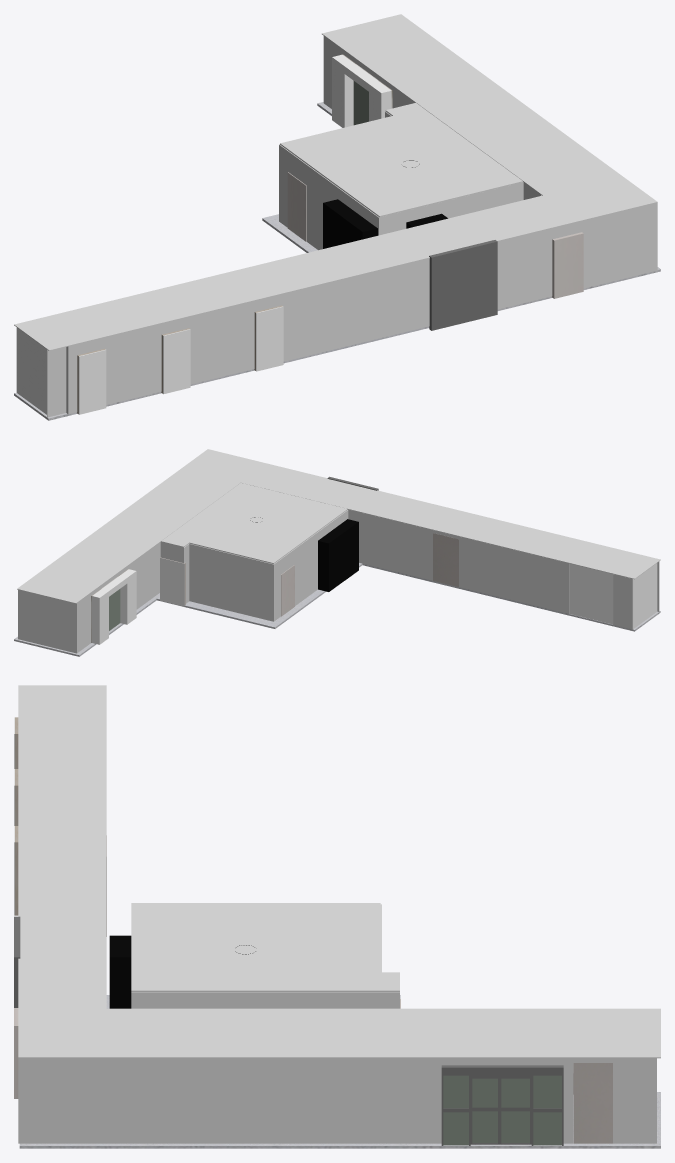
Rendered from surgery_hall_7room_sinkFix.fbx.
3 renders of one model, top to bottom at view 1: azimuth 30°, elevation 25°; view 2: azimuth 150°, elevation 25°; view 3: azimuth 270°, elevation 25°, orthographic. The views are drawn at different scales.
Parts seen in each view (by area): view 1: h_celling, h_wall, s_celling, s_room_7_wall, h_door_c, h_restRoom, h_surgery_door_b, wall_picture_a, h_door_b, h_floor, s_door_a, CNU_medical_cabinet_B (+2 smaller); view 2: h_celling, h_wall, s_celling, s_room_7_wall, wall_picture_b, h_surgery_door_b, CNU_medical_cabinet_B, h_door_a, h_floor, wall_picture_a, s_floor, s_door_b (+3 smaller); view 3: h_celling, h_wall, s_celling, h_OR_I_9_10_gate, s_room_7_wall, h_floor, h_door_a_a, h_OR_I_9_10_gate_r, h_OR_I_9_10_gate_l, CNU_medical_cabinet_A, h_door_c.
Part boxes in pixels (box(x1,y1,x2,y2)): h_celling: box(14, 14, 657, 350); h_wall: box(16, 36, 657, 417); s_celling: box(280, 103, 522, 217); s_room_7_wall: box(279, 111, 523, 250); h_door_c: box(77, 305, 283, 414); h_restRoom: box(429, 240, 497, 330); h_surgery_door_b: box(332, 54, 392, 127); wall_picture_a: box(17, 327, 46, 414); h_door_b: box(552, 232, 583, 298); h_floor: box(14, 102, 660, 420); s_door_a: box(287, 172, 306, 241); CNU_medical_cabinet_B: box(323, 199, 357, 248); h_celling: box(17, 449, 660, 603); h_wall: box(18, 509, 659, 653); s_celling: box(161, 483, 347, 563); s_room_7_wall: box(160, 510, 348, 621); wall_picture_b: box(569, 563, 613, 624); h_surgery_door_b: box(91, 569, 136, 644); CNU_medical_cabinet_B: box(318, 529, 344, 591); h_door_a: box(433, 533, 458, 586); h_floor: box(14, 564, 660, 656); wall_picture_a: box(633, 563, 657, 628); s_floor: box(156, 563, 362, 628); s_door_b: box(160, 557, 185, 606); h_celling: box(18, 685, 660, 1058); h_wall: box(18, 1058, 656, 1143); s_celling: box(131, 903, 399, 992); h_OR_I_9_10_gate: box(441, 1065, 563, 1145); s_room_7_wall: box(131, 904, 399, 1008); h_floor: box(19, 1092, 660, 1148); h_door_a_a: box(573, 1063, 612, 1143); h_OR_I_9_10_gate_r: box(499, 1075, 531, 1144); h_OR_I_9_10_gate_l: box(470, 1075, 499, 1144); CNU_medical_cabinet_A: box(109, 935, 131, 1008); h_door_c: box(14, 717, 18, 915).
Size of the model in its own units: 24.86 by 3.18 by 18.15.
